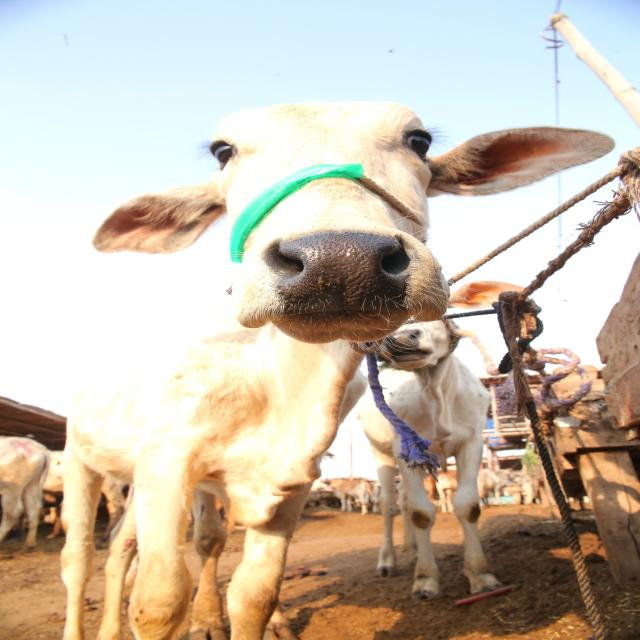muzzles: (255, 227, 428, 322)
